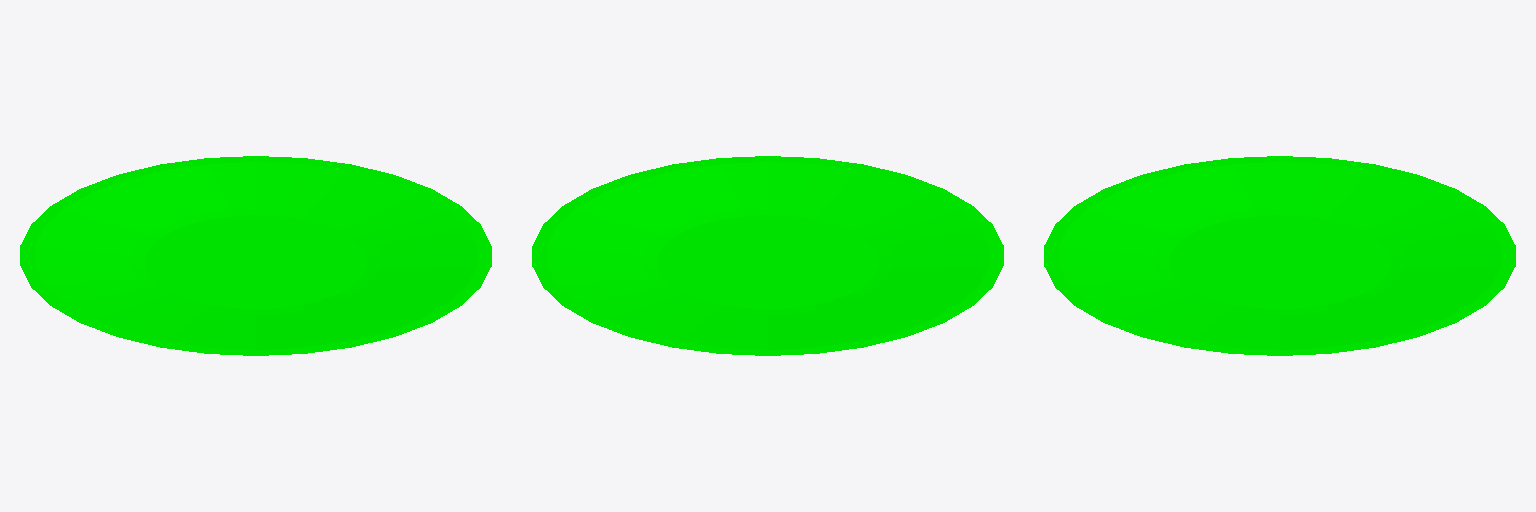
robot.urdf — cube:
<?xml version="1.0"?>
<robot name="cube">
  <!-- Frying pan model, Copyright (c) 2016 [author]       -->
  <!-- LICENSE: CC-SA                                         -->
  <link name="cube">
    <visual>
      <origin rpy="0 0 0" xyz="0 0 0"/>
      <geometry>
        <mesh filename="plate.obj" scale="1.0 1.0 .05"/>
      </geometry>
      <material name="green">  <!-- forces it to actually use the image for its colour -->
        <color rgba="0 1 0 1"/>
      </material>
    </visual>

    <collision>  <!-- bottom -->
      <geometry>
        <cylinder radius="0.05" length="0.005"/>
      </geometry>
      <origin rpy="0 0 0" xyz="0 0 0.0025"/>
    </collision>

    <collision>
      <geometry>
        <mesh filename="plate-collision01.obj" scale="1.0 1.0 .05"/>
      </geometry>
      <origin rpy="0 0 0" xyz="0 0 0"/>
    </collision>

    <collision>
      <geometry>
        <mesh filename="plate-collision02.obj" scale="1.0 1.0 .05"/>
      </geometry>
      <origin rpy="0 0 0" xyz="0 0 0"/>
    </collision>

    <collision>
      <geometry>
        <mesh filename="plate-collision03.obj" scale="1.0 1.0 .05"/>
      </geometry>
      <origin rpy="0 0 0" xyz="0 0 0"/>
    </collision>

    <collision>
      <geometry>
        <mesh filename="plate-collision04.obj" scale="1.0 1.0 .05"/>
      </geometry>
      <origin rpy="0 0 0" xyz="0 0 0"/>
    </collision>

    <collision>
      <geometry>
        <mesh filename="plate-collision05.obj" scale="1.0 1.0 .05"/>
      </geometry>
      <origin rpy="0 0 0" xyz="0 0 0"/>
    </collision>

    <collision>
      <geometry>
        <mesh filename="plate-collision06.obj" scale="1.0 1.0 .1"/>
      </geometry>
      <origin rpy="0 0 0" xyz="0 0 0"/>
    </collision>

    <inertial>
      <mass value="0.1"/>  <!-- mr^2 = 0.5*0.12^2 = 0.0072 for Z axis, lighter along other axis -->
      <inertia ixx="0.005" iyy="0.005" izz="0.0072"/>
    </inertial>
  </link>

</robot>

--- What the picture shows (computed from the rendered views, not written in the file) ---
Views: 3 orthographic renders of the robot side by side, from view 1: azimuth 30°, elevation 25°; view 2: azimuth 150°, elevation 25°; view 3: azimuth 270°, elevation 25°.
Robot: cube — 1 links, 0 joints (none); root link cube; default pose: every joint at zero.
Visible links, largest first — view 1: cube; view 2: cube; view 3: cube.
Boxes of the visible links, x1,y1,x2,y2 form: cube: (20,156,491,355); cube: (532,156,1003,355); cube: (1044,156,1515,355).
Bounding box of the posed robot: 0.196 × 0.1949 × 0.003 m (x, y, z).
Meshes: 1 distinct files referenced, 1 mesh visuals loaded (1 OBJ).